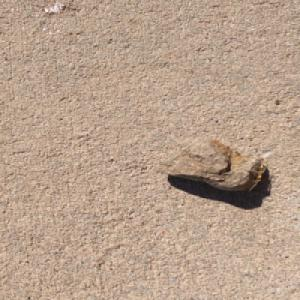Rock: (153, 136, 266, 191)
